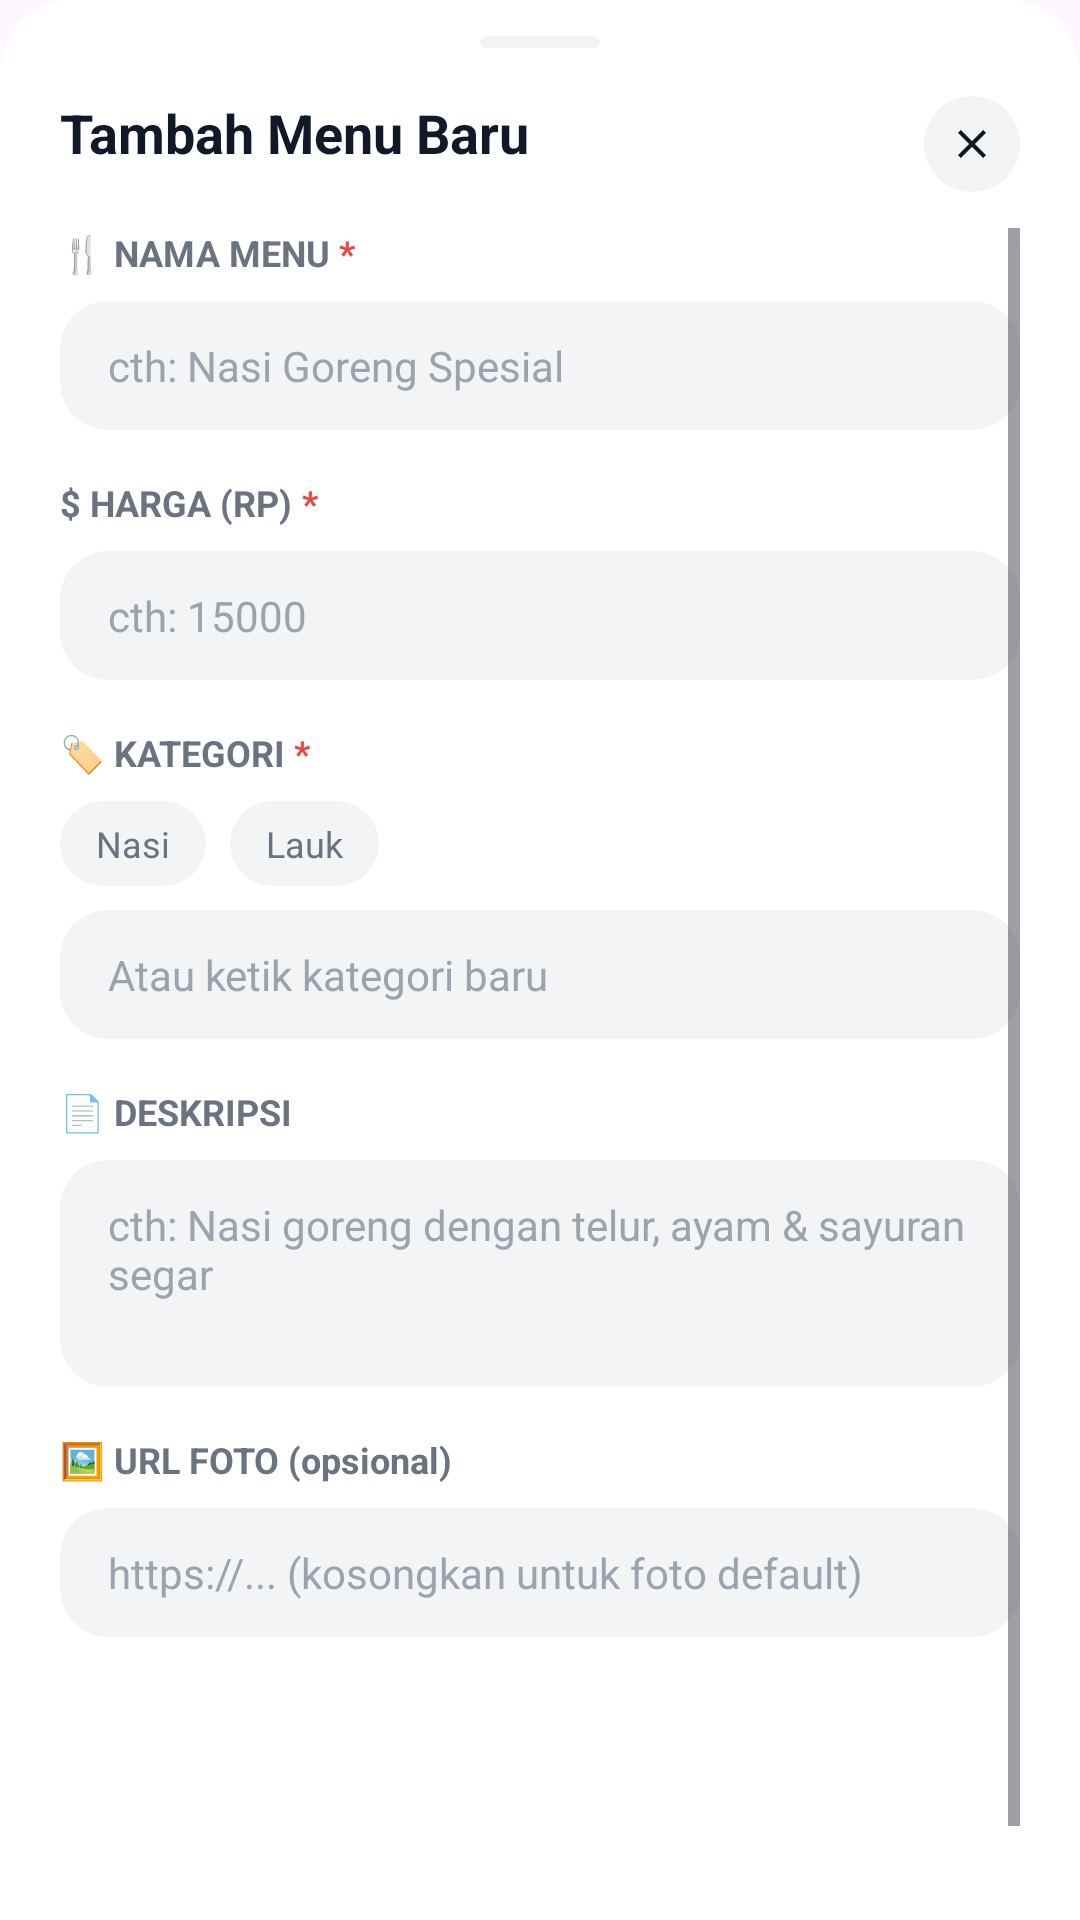

Point at icon controls on the screen. Image size 1080*1920, points as (x,y).
close: (972,144)
